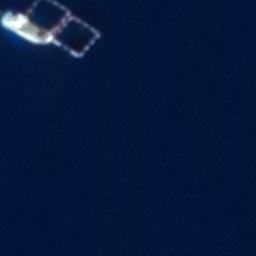square_solid: (48, 13, 107, 63), (20, 1, 77, 38)
